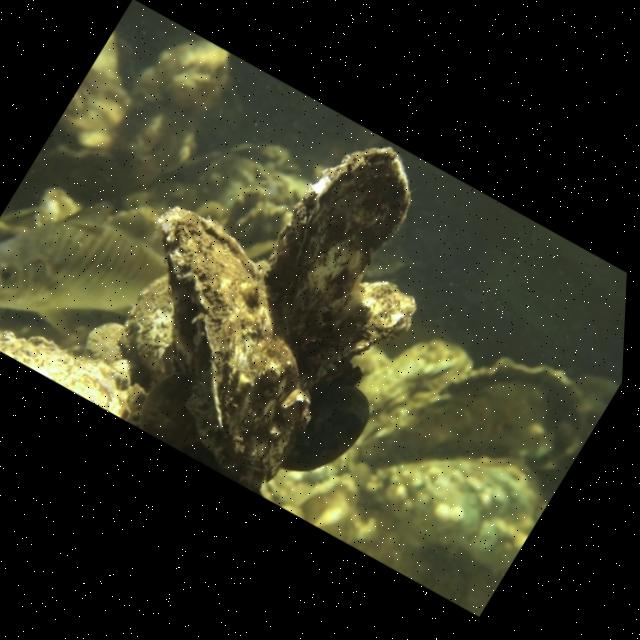Oyster-Closed: (154, 194, 317, 496), (264, 143, 417, 356), (295, 277, 424, 389), (362, 334, 475, 429), (115, 274, 176, 380)
Oyster-Indeterminate: (359, 360, 586, 468), (358, 450, 546, 577), (0, 324, 129, 418), (283, 384, 376, 473)
